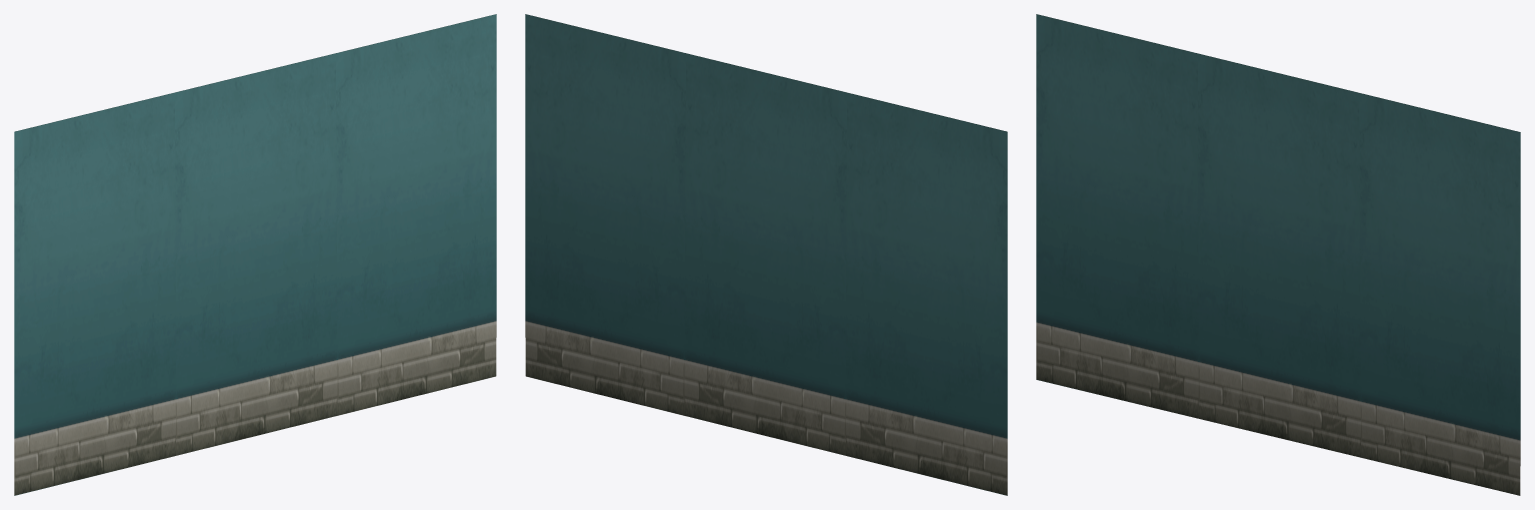
File: K1_bizhi4.FBX
3 renders of one model, left to right at view 1: azimuth 30°, elevation 25°; view 2: azimuth 150°, elevation 25°; view 3: azimuth 330°, elevation 25°, orthographic.
Visible parts, largest first — view 1: YHT_bizhi4; view 2: YHT_bizhi4; view 3: YHT_bizhi4.
Boxes of the visible parts, x1,y1,x2,y2 form: YHT_bizhi4: (14,14,496,495); YHT_bizhi4: (525,14,1007,495); YHT_bizhi4: (1036,14,1520,495).
Bounding box in the file's own units: 3.97 × 2.86 × 4.8e-07.
